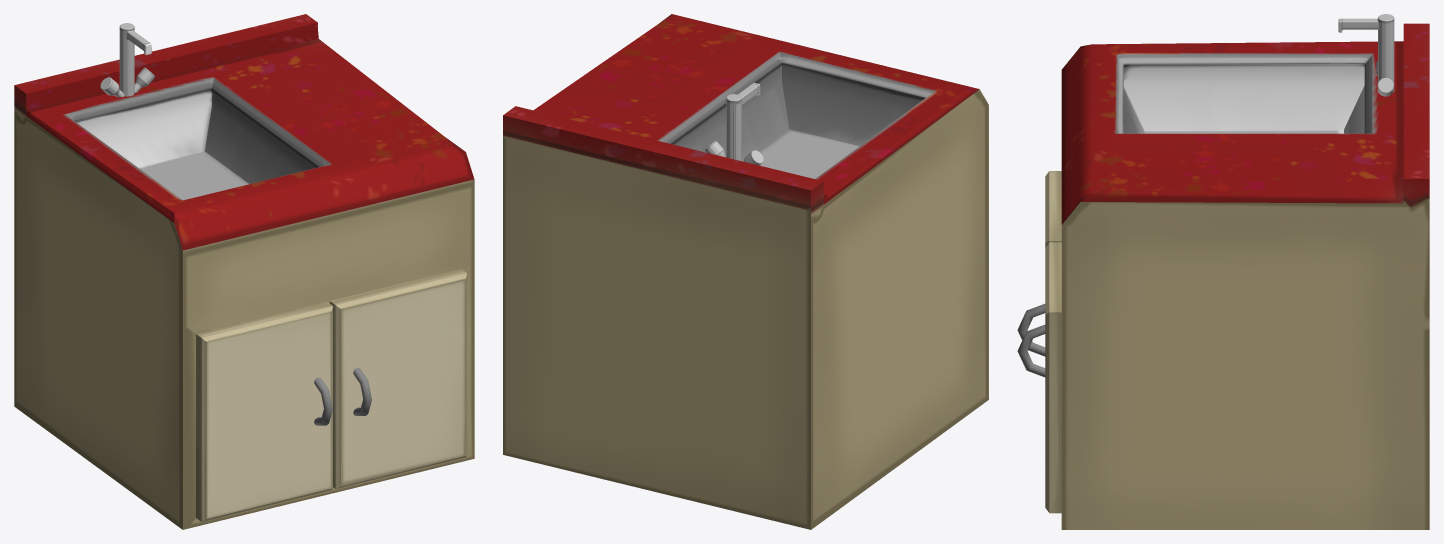
Rendered from Sink.fbx.
3 views of the same model, side by side, from view 1: azimuth 30°, elevation 25°; view 2: azimuth 150°, elevation 25°; view 3: azimuth 270°, elevation 25° (orthographic). The views are drawn at different scales.
Parts seen in each view (by area): view 1: CabinetSink; view 2: CabinetSink; view 3: CabinetSink.
Boxes of the visible parts, x1,y1,x2,y2 form: CabinetSink: (14,14,474,529); CabinetSink: (503,14,988,529); CabinetSink: (1017,14,1429,529).
Bounding box in the file's own units: 5.65 × 6.88 × 6.31.
